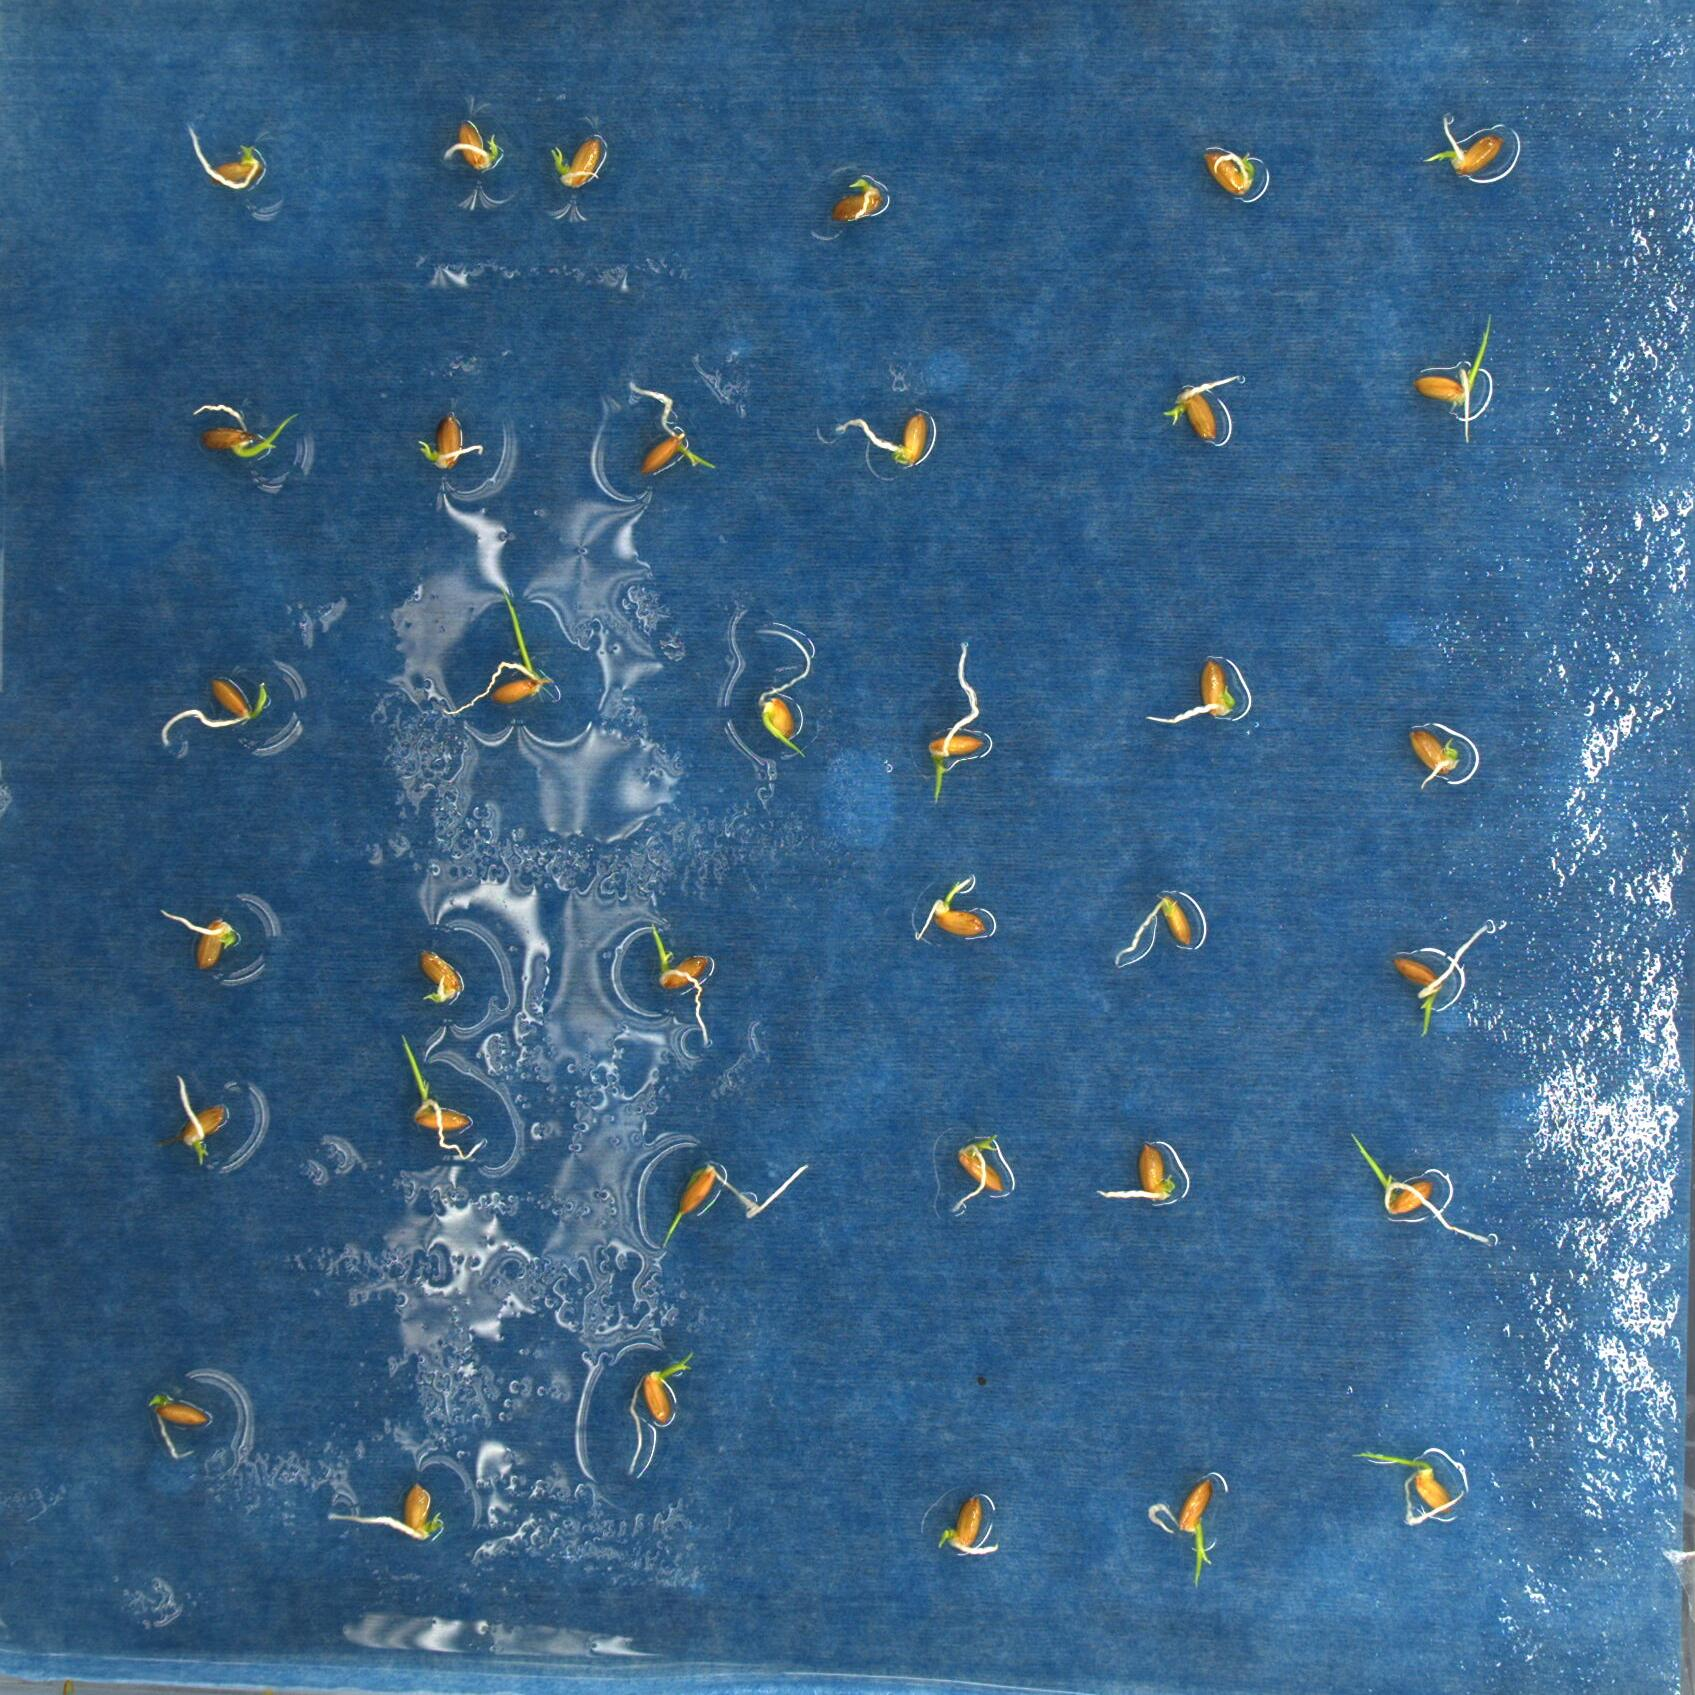not sprout: (1139, 657, 1243, 730), (1111, 886, 1197, 969), (1156, 369, 1246, 445), (328, 1485, 442, 1541), (155, 905, 244, 976), (837, 408, 931, 473), (182, 120, 262, 196), (1093, 1141, 1181, 1205), (149, 1394, 213, 1459), (938, 1495, 1000, 1557), (1405, 730, 1464, 789), (414, 947, 469, 1007)
sprout: (1347, 1128, 1496, 1245), (660, 1156, 813, 1251), (441, 591, 556, 716), (1389, 920, 1499, 1038), (396, 1031, 487, 1167), (928, 636, 990, 809), (621, 377, 722, 477), (1412, 307, 1499, 419), (750, 622, 815, 764), (647, 919, 716, 1052), (157, 674, 273, 751), (627, 1347, 697, 1476), (1354, 1451, 1465, 1527), (1149, 1478, 1215, 1589), (192, 400, 304, 461), (1423, 109, 1509, 175), (945, 1128, 1007, 1218), (172, 1071, 227, 1167), (913, 875, 989, 944), (416, 408, 484, 473), (438, 120, 500, 172), (545, 135, 605, 186), (1201, 147, 1256, 200), (830, 177, 885, 224)
